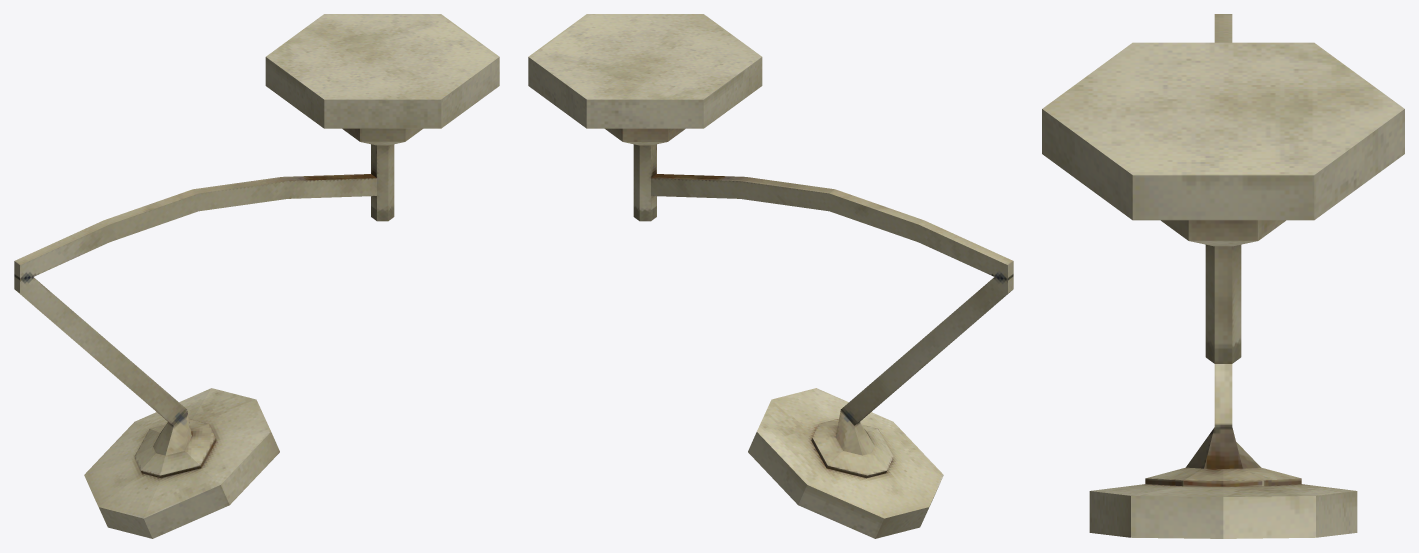
Rendered from SM_Examination_Light.fbx.
3 views of the same model, side by side, from view 1: azimuth 30°, elevation 25°; view 2: azimuth 150°, elevation 25°; view 3: azimuth 270°, elevation 25° (orthographic). The views are drawn at different scales.
Parts seen in each view (by area): view 1: SM_Examination_Light; view 2: SM_Examination_Light; view 3: SM_Examination_Light.
Boxes of the visible parts, x1,y1,x2,y2 form: SM_Examination_Light: [14, 14, 499, 538]; SM_Examination_Light: [528, 14, 1013, 538]; SM_Examination_Light: [1042, 14, 1404, 538].
Bounding box in the file's own units: 130 × 111 × 58.25.
